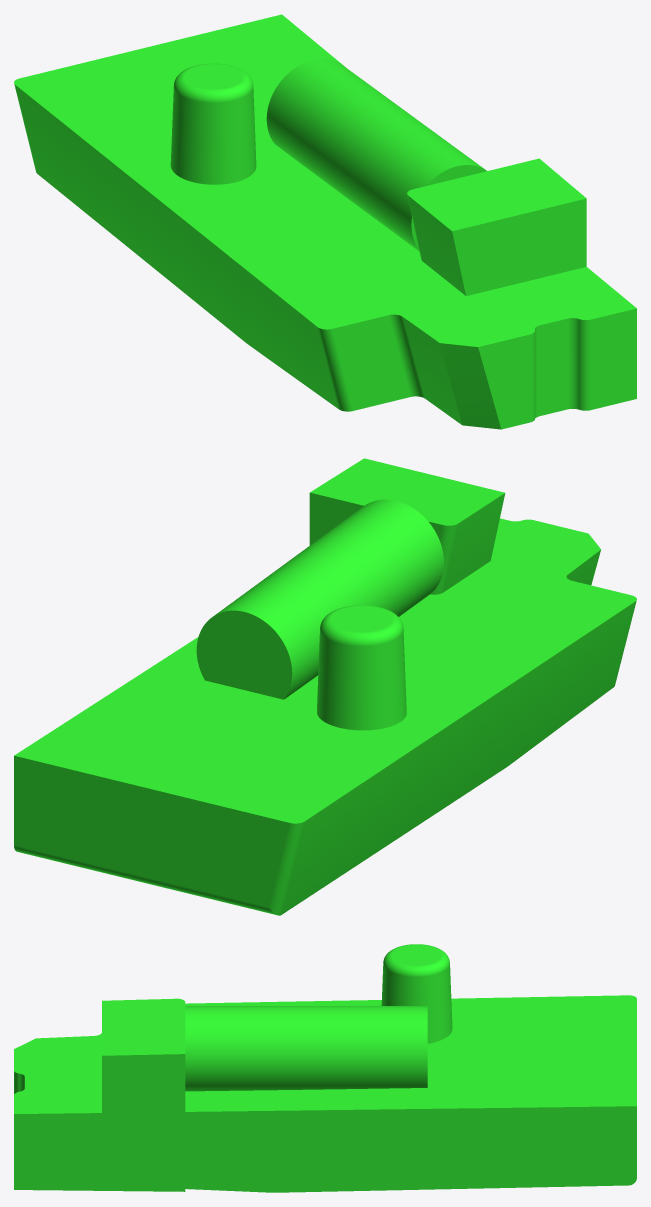
Rendered from _2025_Drivetrain_Kraken_Motors_R1_2.obj.
The picture shows the model from 3 angles, top to bottom: view 1: azimuth 30°, elevation 25°; view 2: azimuth 150°, elevation 25°; view 3: azimuth 270°, elevation 25°; orthographic projection. The views are drawn at different scales.
Parts seen in each view (by area): view 1: mesh20302, mesh20281, mesh20264, mesh20273, mesh20272, mesh20303, mesh20290, mesh20282, mesh20301, mesh20299, mesh20266, mesh20293 (+9 smaller); view 2: mesh20302, mesh20281, mesh20276, mesh20264, mesh20267, mesh20272, mesh20303, mesh20274, mesh20304, mesh20266, mesh20277, mesh20268 (+4 smaller); view 3: mesh20275, mesh20302, mesh20264, mesh20265, mesh20272, mesh20304, mesh20305, mesh20307.
Boxes of the visible parts, left/top/right/bottom form: mesh20302: left=14, top=14, right=636, bottom=346; mesh20281: left=15, top=85, right=338, bottom=408; mesh20264: left=266, top=59, right=485, bottom=224; mesh20273: left=452, top=198, right=586, bottom=295; mesh20272: left=407, top=158, right=586, bottom=231; mesh20303: left=170, top=87, right=234, bottom=184; mesh20290: left=332, top=315, right=410, bottom=410; mesh20282: left=591, top=308, right=636, bottom=409; mesh20301: left=478, top=334, right=529, bottom=429; mesh20299: left=440, top=343, right=501, bottom=429; mesh20266: left=266, top=119, right=419, bottom=251; mesh20293: left=540, top=318, right=567, bottom=415; mesh20302: left=14, top=518, right=636, bottom=823; mesh20281: left=281, top=602, right=635, bottom=914; mesh20276: left=14, top=755, right=289, bottom=906; mesh20264: left=214, top=499, right=443, bottom=673; mesh20267: left=196, top=610, right=292, bottom=699; mesh20272: left=310, top=458, right=504, bottom=525; mesh20303: left=339, top=630, right=406, bottom=730; mesh20274: left=443, top=493, right=505, bottom=592; mesh20304: left=317, top=630, right=340, bottom=727; mesh20266: left=284, top=563, right=443, bottom=699; mesh20277: left=14, top=845, right=275, bottom=914; mesh20268: left=309, top=492, right=363, bottom=545; mesh20275: left=14, top=1054, right=636, bottom=1192; mesh20302: left=14, top=995, right=636, bottom=1113; mesh20264: left=185, top=1006, right=427, bottom=1068; mesh20265: left=185, top=1068, right=427, bottom=1091; mesh20272: left=102, top=998, right=185, bottom=1055; mesh20304: left=381, top=964, right=452, bottom=1043; mesh20305: left=383, top=955, right=449, bottom=976; mesh20307: left=392, top=945, right=440, bottom=965.
Bounding box in the file's own units: 0.00611 × 0.004 × 0.0141.
